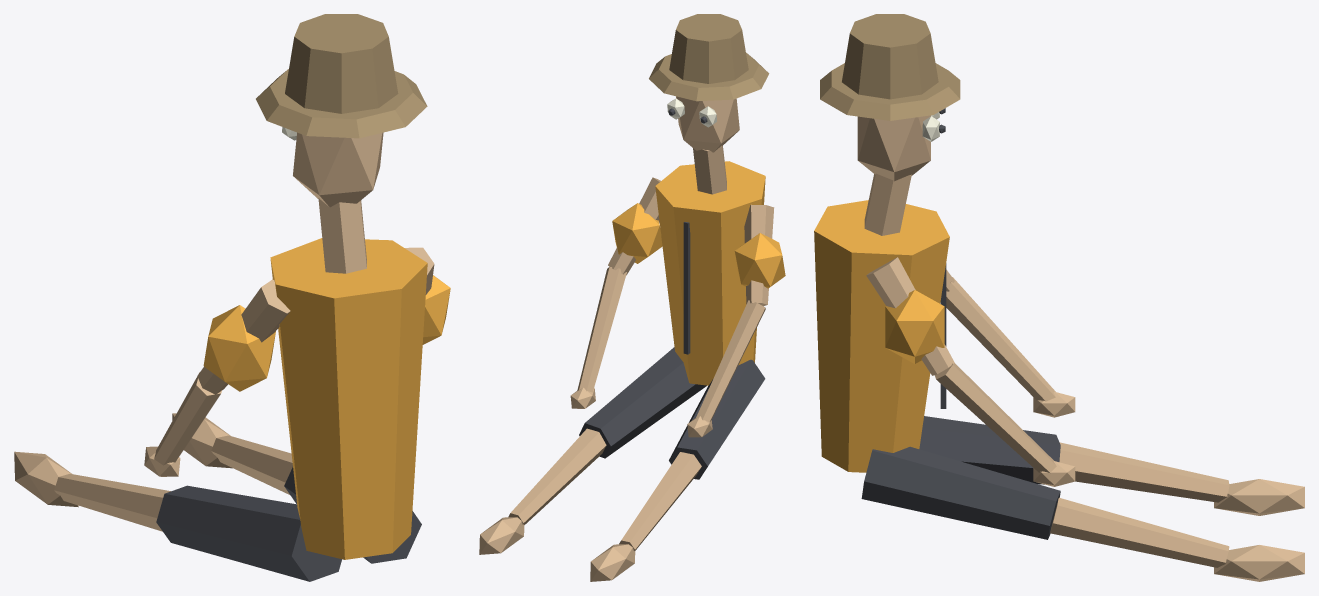
Rendered from Tourist.fbx.
3 renders of one model, left to right at view 1: azimuth 30°, elevation 25°; view 2: azimuth 150°, elevation 25°; view 3: azimuth 270°, elevation 25°, orthographic. The views are drawn at different scales.
Parts seen in each view (by area): view 1: Torso, Shorts1, HatCrown, HatBrim, Head, ArmFloat1, Calf1, Neck, Calf-1, Forearm1, Arm1, Foot1 (+4 smaller); view 2: Torso, Shorts-1, HatCrown, Shorts1, Calf-1, HatBrim, Calf1, Head, Forearm-1, Forearm1, ArmFloat1, ArmFloat-1 (+8 smaller); view 3: Torso, Shorts-1, HatCrown, Calf-1, Calf1, Shorts1, HatBrim, Head, Forearm1, ArmFloat-1, Forearm-1, Foot-1 (+5 smaller).
Part boxes in pixels (box(x1,y1,x2,y2)): Torso: box(270, 238, 427, 559); Shorts1: box(156, 485, 341, 581); HatCrown: box(285, 14, 398, 113); HatBrim: box(256, 69, 427, 138); Head: box(293, 132, 383, 207); ArmFloat1: box(203, 305, 275, 391); Calf1: box(54, 474, 170, 531); Neck: box(318, 198, 366, 273); Calf-1: box(211, 435, 292, 494); Forearm1: box(154, 372, 221, 465); Arm1: box(197, 279, 290, 394); Foot1: box(14, 451, 78, 507); Torso: box(655, 161, 765, 385); Shorts-1: box(579, 347, 706, 458); HatCrown: box(669, 14, 748, 83); Shorts1: box(669, 359, 765, 479); Calf-1: box(508, 428, 606, 524); HatBrim: box(649, 52, 769, 101); Calf1: box(619, 452, 701, 550); Head: box(676, 96, 739, 152); Forearm-1: box(577, 266, 626, 392); Forearm1: box(696, 300, 765, 422); ArmFloat1: box(734, 233, 785, 288); ArmFloat-1: box(612, 203, 662, 263); Torso: box(814, 200, 949, 472); Shorts-1: box(861, 446, 1060, 539); HatCrown: box(842, 14, 938, 99); Calf-1: box(1050, 497, 1229, 567); Calf1: box(1059, 442, 1229, 502); Shorts1: box(919, 416, 1060, 484); HatBrim: box(820, 63, 960, 120); Head: box(857, 115, 930, 181); Forearm1: box(946, 277, 1055, 401); ArmFloat-1: box(885, 290, 944, 363); Forearm-1: box(934, 363, 1056, 473); Foot-1: box(1214, 545, 1304, 581).
Bounding box in the file's own units: 0.5721 × 1.39 × 1.2.
